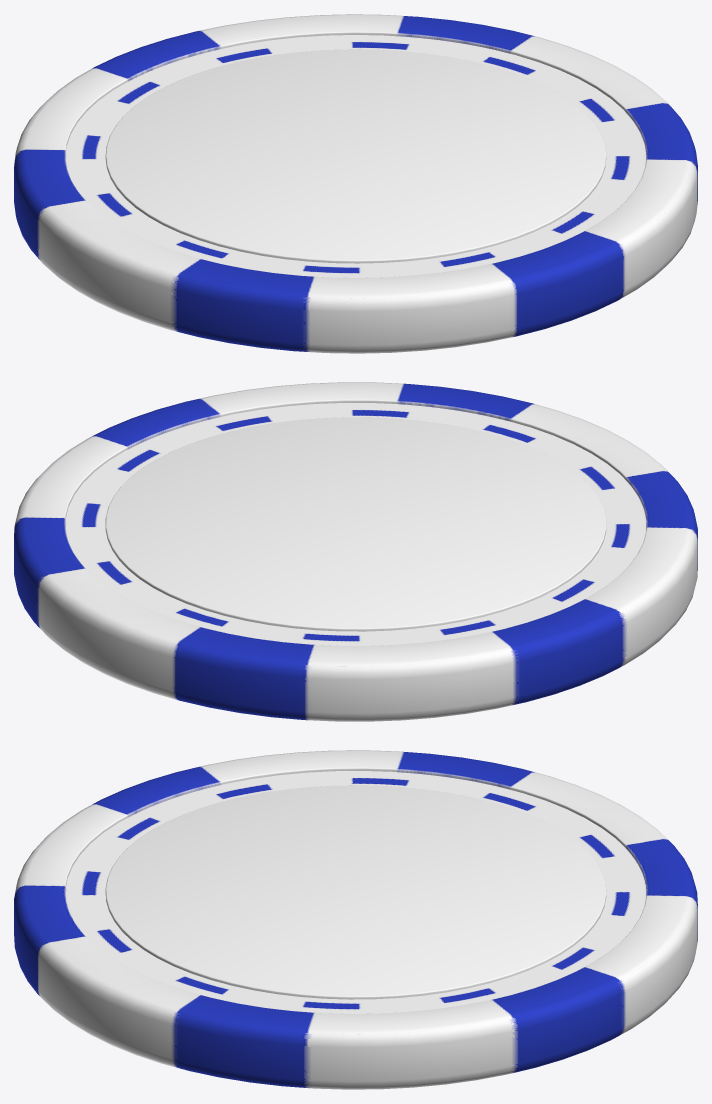
Rendered from white_blue.glb.
The picture shows the model from 3 angles, top to bottom: view 1: azimuth 30°, elevation 25°; view 2: azimuth 150°, elevation 25°; view 3: azimuth 270°, elevation 25°; orthographic projection.
Visible parts, largest first — view 1: chips.448_chips_white_bake_0; view 2: chips.448_chips_white_bake_0; view 3: chips.448_chips_white_bake_0.
Part boxes in pixels (x1,y1,x2,y2): chips.448_chips_white_bake_0: [14, 14, 697, 353]; chips.448_chips_white_bake_0: [14, 382, 697, 721]; chips.448_chips_white_bake_0: [14, 750, 697, 1089].
Bounding box in the file's own units: 2 × 0.1882 × 2.
Materials: 1 (1 with a texture image).
